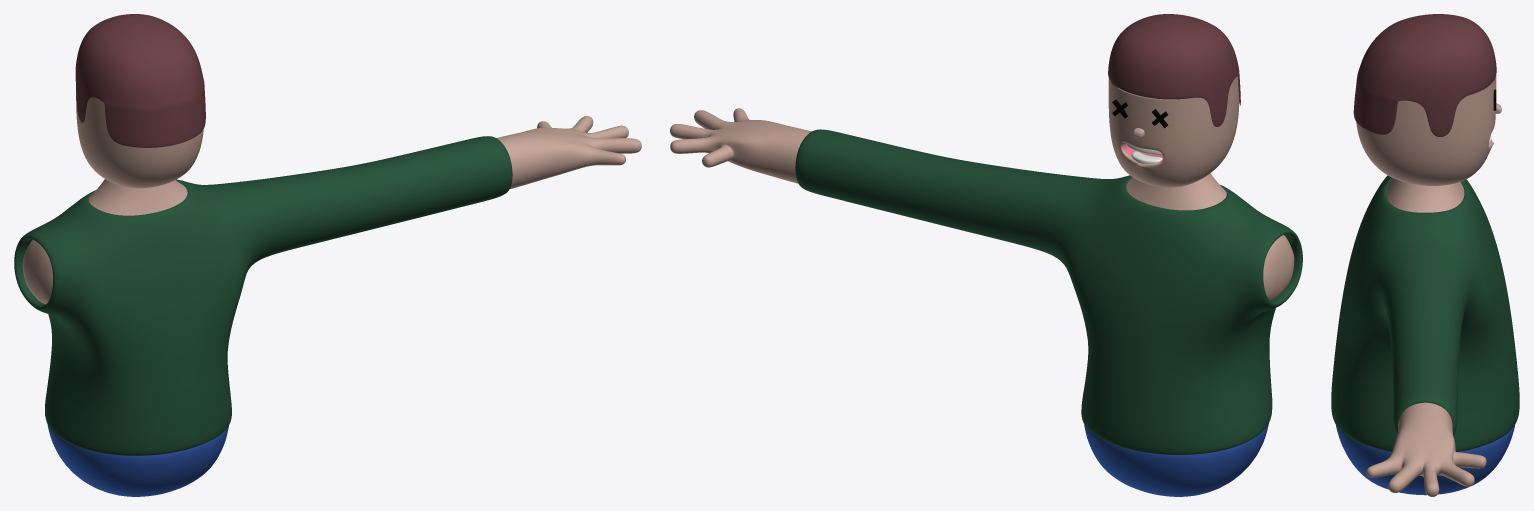
Rendered from 3_left_arm.fbx.
3 views of the same model, side by side, from view 1: azimuth 30°, elevation 25°; view 2: azimuth 150°, elevation 25°; view 3: azimuth 270°, elevation 25° (orthographic).
Parts seen in each view (by area): view 1: sweater.001, hair.001, body.001, pants.001, head.001; view 2: sweater.001, body.001, hair.001, head.001, pants.001; view 3: sweater.001, hair.001, head.001, body.001, pants.001.
Part boxes in pixels (bbox=[...]): sweater.001: bbox=[14, 136, 512, 455]; hair.001: bbox=[75, 14, 205, 147]; body.001: bbox=[22, 116, 641, 304]; pants.001: bbox=[47, 425, 228, 496]; head.001: bbox=[76, 92, 203, 188]; sweater.001: bbox=[795, 129, 1302, 454]; body.001: bbox=[670, 108, 1294, 300]; hair.001: bbox=[1108, 14, 1240, 126]; head.001: bbox=[1108, 76, 1239, 187]; pants.001: bbox=[1084, 424, 1268, 496]; sweater.001: bbox=[1331, 175, 1519, 451]; hair.001: bbox=[1353, 14, 1496, 136]; head.001: bbox=[1356, 75, 1496, 185]; body.001: bbox=[1366, 178, 1486, 496]; pants.001: bbox=[1336, 425, 1514, 495].
Bounding box in the file's own units: 184 × 134 × 49.55.
